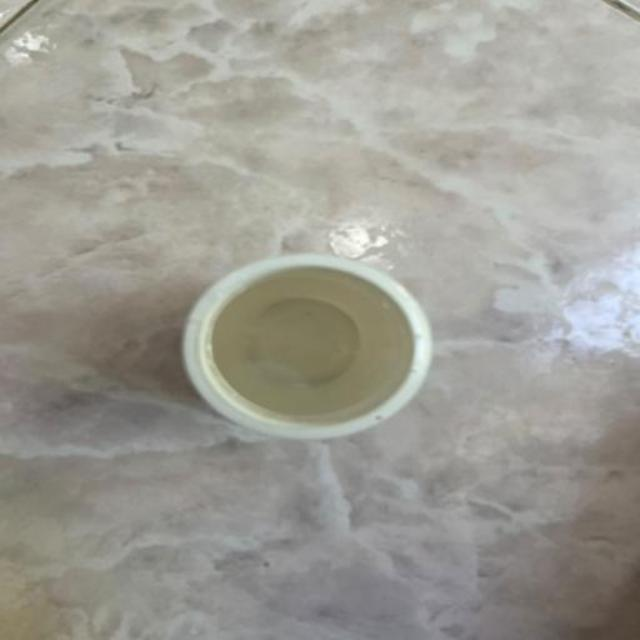HDPE: (171, 232, 476, 459)
